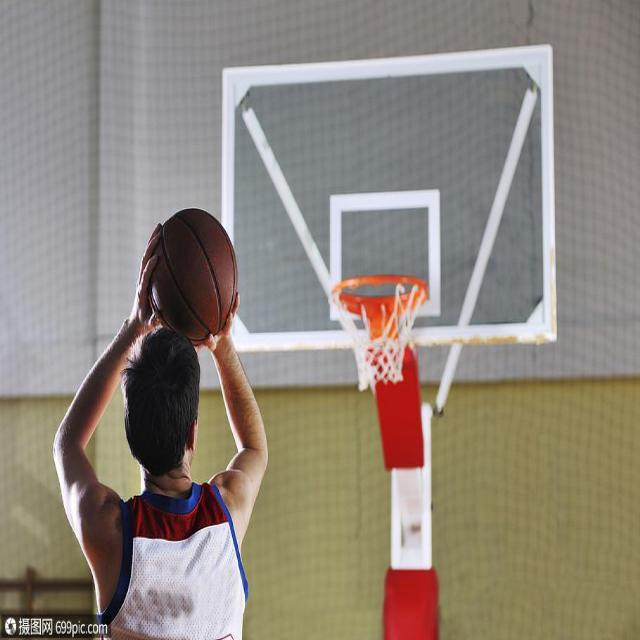rim: (148, 209, 232, 346)
